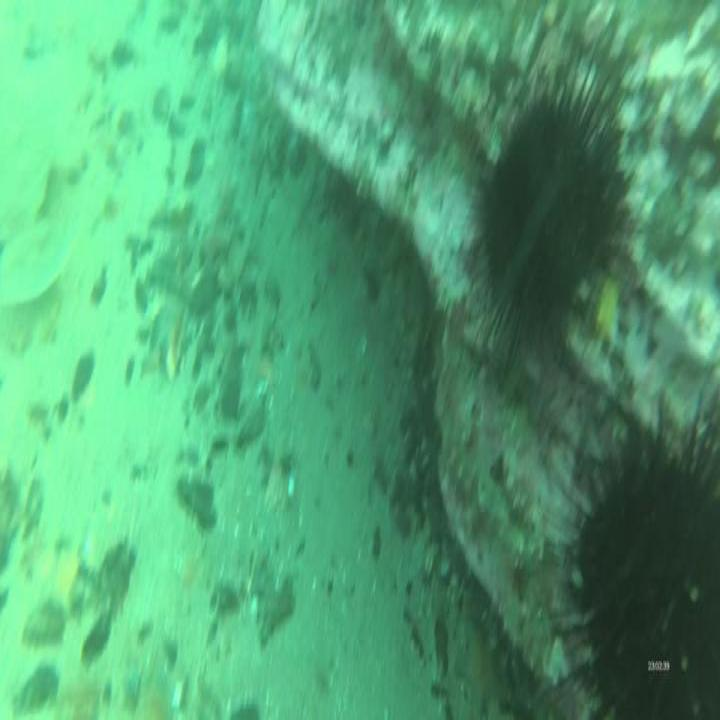echinus: (578, 442, 720, 720), (483, 98, 609, 350)
starfish: (453, 624, 510, 716)
